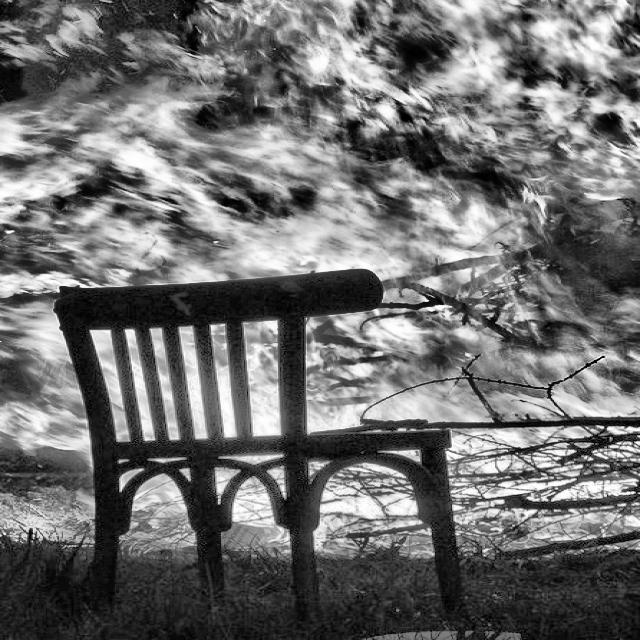fire: (15, 31, 640, 549)
